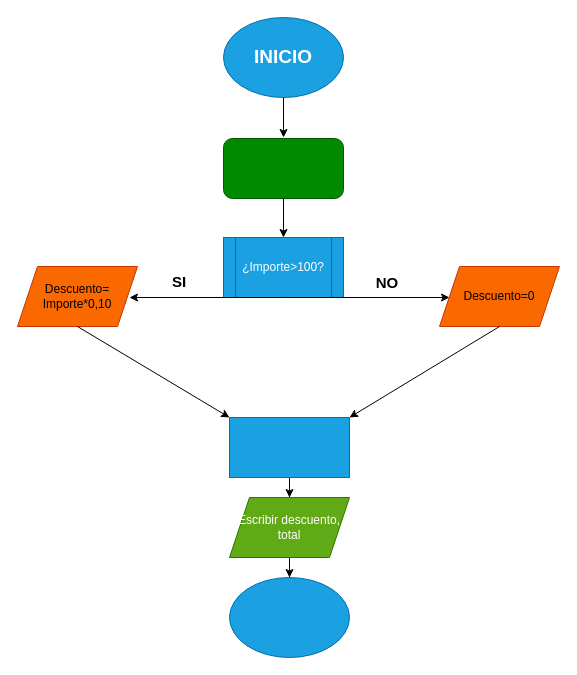
Some shapes in this 577 by 675 pixel diagram are drawn without their labels. The shapes that lost their labels are listed below. From the top down, each one's box as (x1, y1, x2, y2) in pixels, then its label:
(222, 138, 344, 198): Leer importe
(228, 416, 350, 478): TOTAL=Importe-Descuento
(228, 576, 350, 658): FIN
